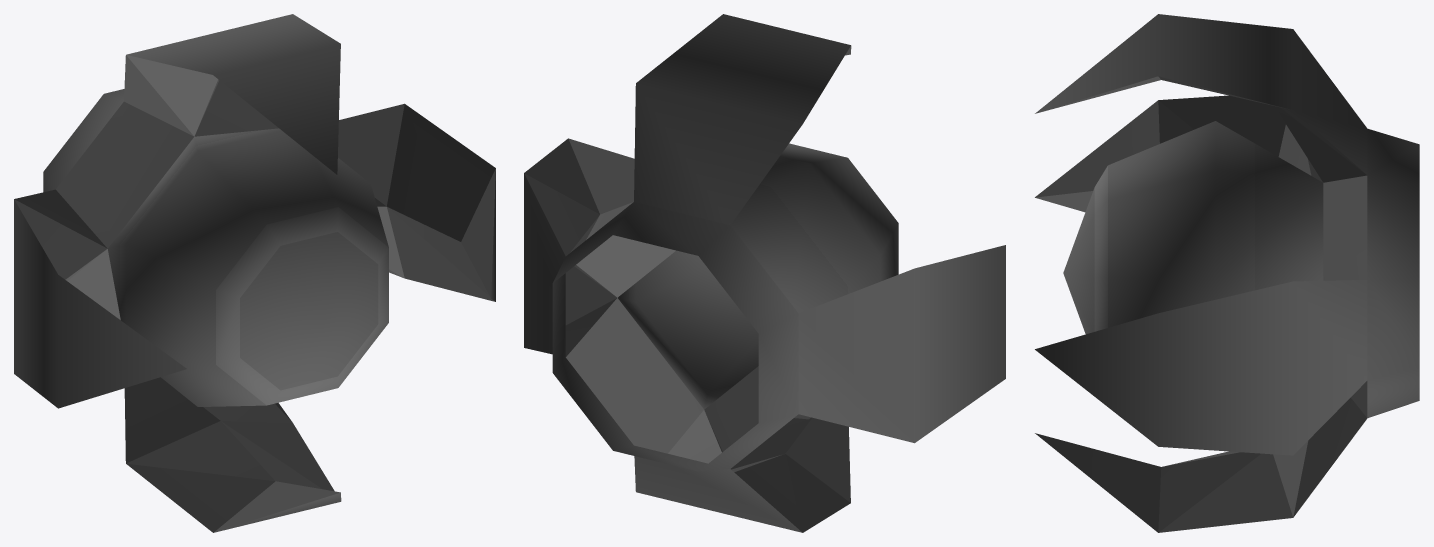
File: stat_top2.glb
The picture shows the model from 3 angles, left to right: view 1: azimuth 30°, elevation 25°; view 2: azimuth 150°, elevation 25°; view 3: azimuth 270°, elevation 25°; orthographic projection.
Visible parts, largest first — view 1: group_19; view 2: group_19; view 3: group_19.
Part boxes in pixels (x1,y1,x2,y2): group_19: (14, 14, 495, 532); group_19: (524, 14, 1005, 532); group_19: (1035, 14, 1419, 532).
Size of the model in its own units: 16067 by 16067 by 12281.
2 materials, 2 textured.
